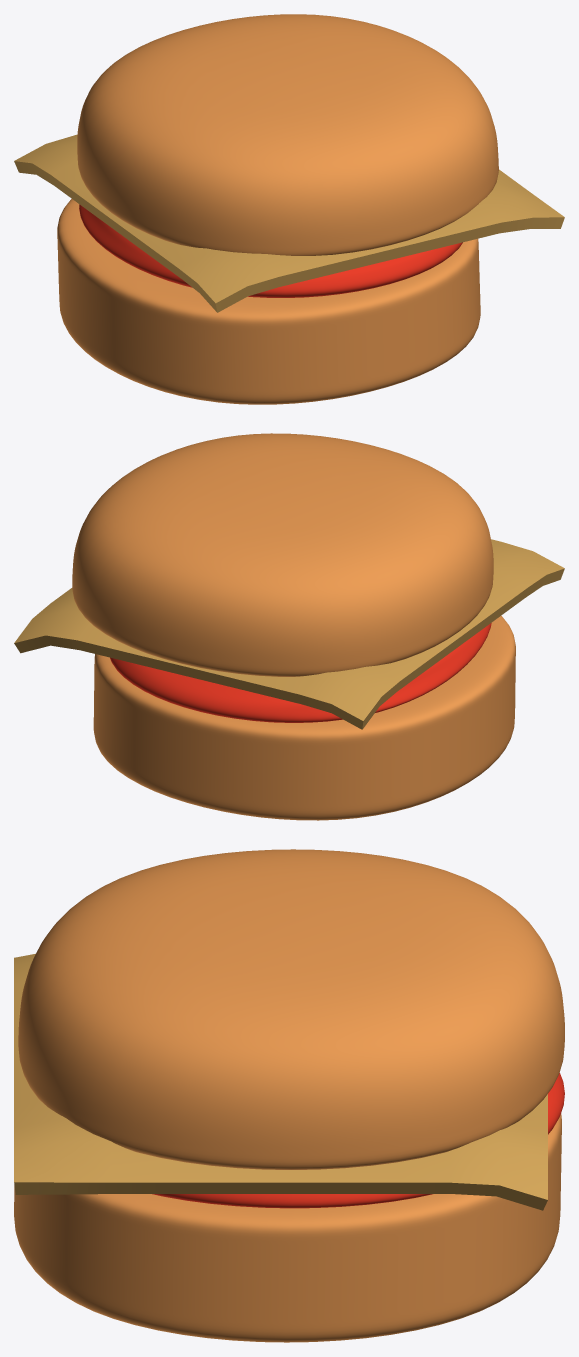
File: hamburger2.glb
3 views of the same model, one above another, from view 1: azimuth 30°, elevation 25°; view 2: azimuth 150°, elevation 25°; view 3: azimuth 270°, elevation 25° (orthographic). The views are drawn at different scales.
Parts seen in each view (by area): view 1: Cube.002, Cube, Plane, Cube.001; view 2: Cube.002, Cube, Plane, Cube.001; view 3: Cube.002, Cube, Plane, Cube.001.
Part boxes in pixels (x1,y1,x2,y2): Cube.002: (77,14,498,255); Cube: (57,199,480,404); Plane: (14,134,564,312); Cube.001: (79,204,462,297); Cube.002: (72,433,493,676); Cube: (93,615,515,820); Plane: (14,539,564,729); Cube.001: (110,623,491,722); Cube.002: (18,849,564,1169); Cube: (14,1113,561,1342); Plane: (14,953,547,1210); Cube.001: (152,1073,564,1208).
Size of the model in its own units: 9.32 by 5.91 by 8.87.
